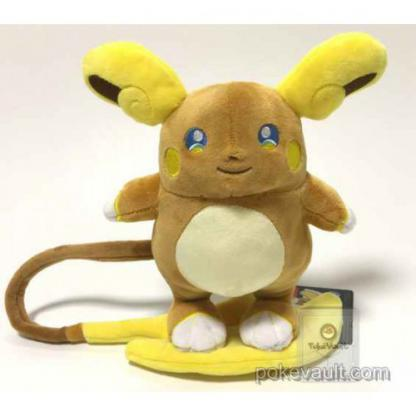Raichu: (1, 44, 416, 416)
